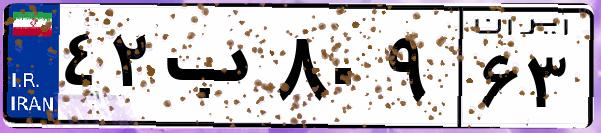0: (330, 28, 385, 110)
2: (110, 28, 158, 98)
3: (525, 38, 570, 115)
4: (57, 26, 110, 100)
6: (475, 38, 525, 113)
8: (270, 28, 330, 110)
9: (385, 28, 445, 110)
ب: (158, 20, 270, 120)
